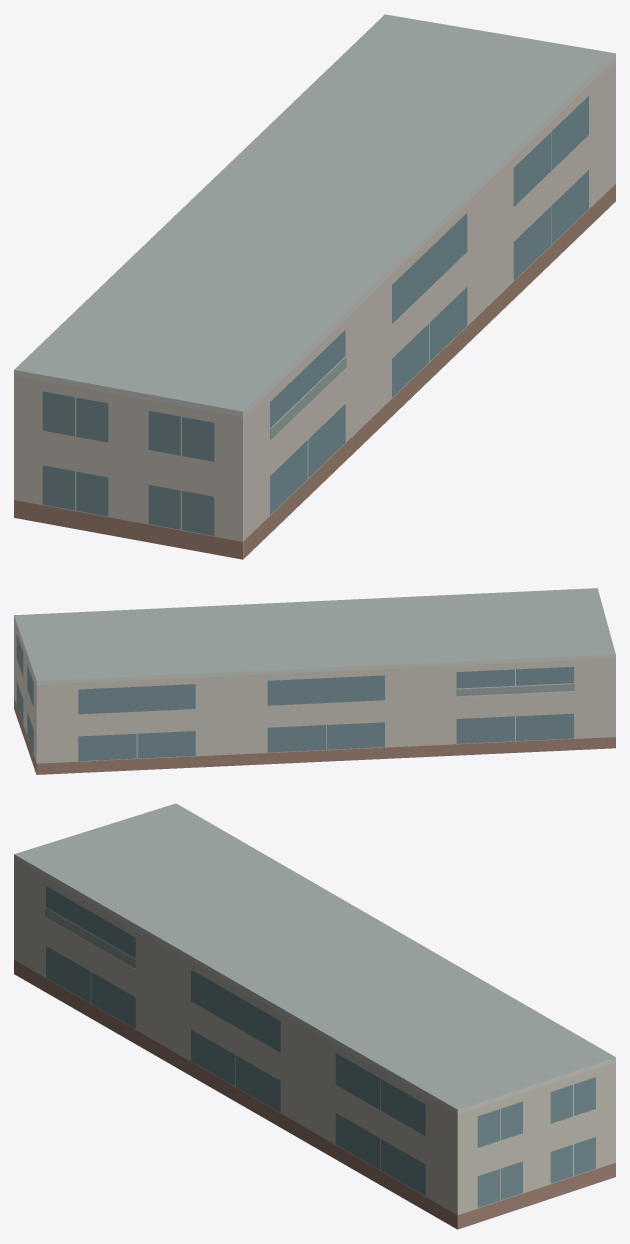
Rendered from survey-upis-32577866.glb.
3 views of the same model, one above another, from view 1: azimuth 30°, elevation 25°; view 2: azimuth 150°, elevation 25°; view 3: azimuth 270°, elevation 25° (orthographic). The views are drawn at different scales.
Visible parts, largest first — view 1: survey-upis-32577866.tmp; view 2: survey-upis-32577866.tmp; view 3: survey-upis-32577866.tmp.
Boxes of the visible parts, x1,y1,x2,y2 form: survey-upis-32577866.tmp: [14, 14, 615, 559]; survey-upis-32577866.tmp: [14, 588, 615, 774]; survey-upis-32577866.tmp: [14, 803, 615, 1229].
Bounding box in the file's own units: 33.46 × 6.1 × 27.77.
